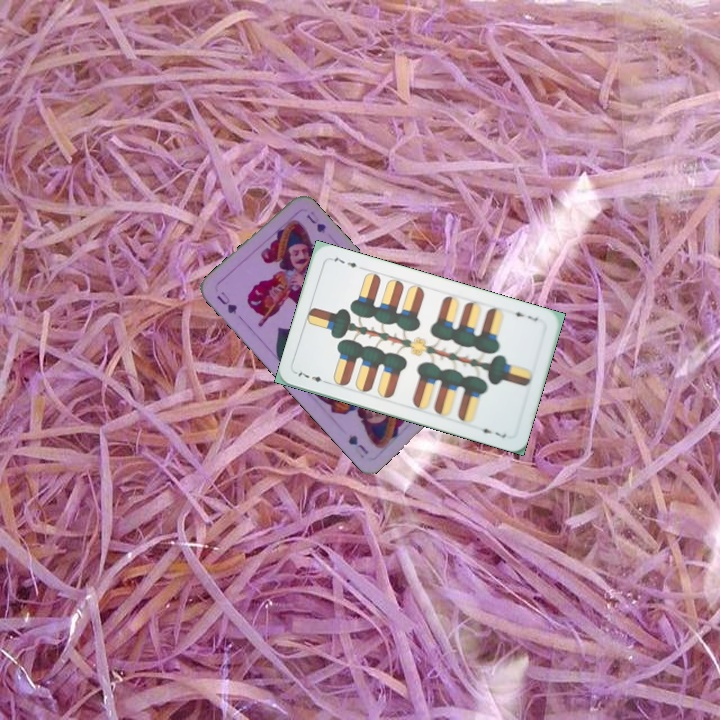E7: (292, 366, 332, 386), (507, 306, 540, 324)
GU: (213, 287, 240, 316)
